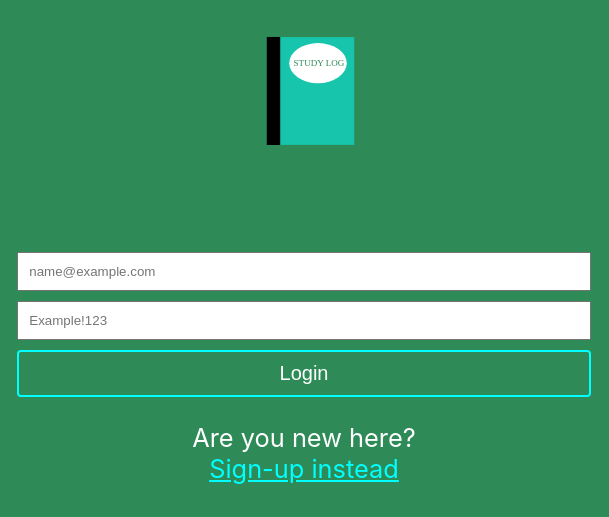
Test case: Login Page › blocks failed login when the password field is blank
Type "s.addict2@test.com" into the field with test id "email-input" at (304, 272), box [17,252,590,291]
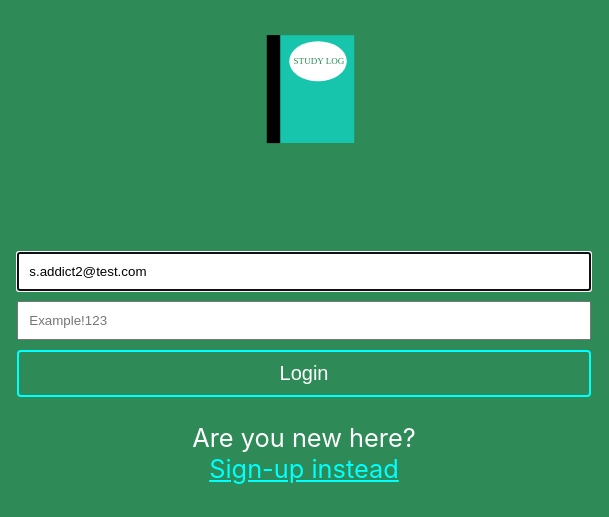
Click the button "Login" at (304, 374), box [17,350,590,397]
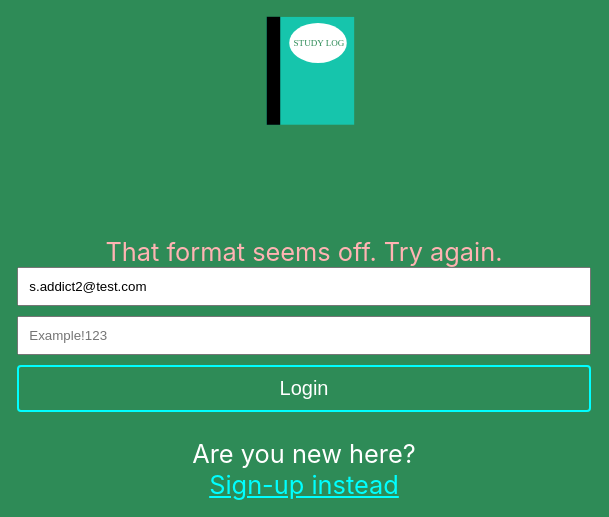
expect the text "That format seems off. Try again." is shown: met, box [105,236,502,267]
